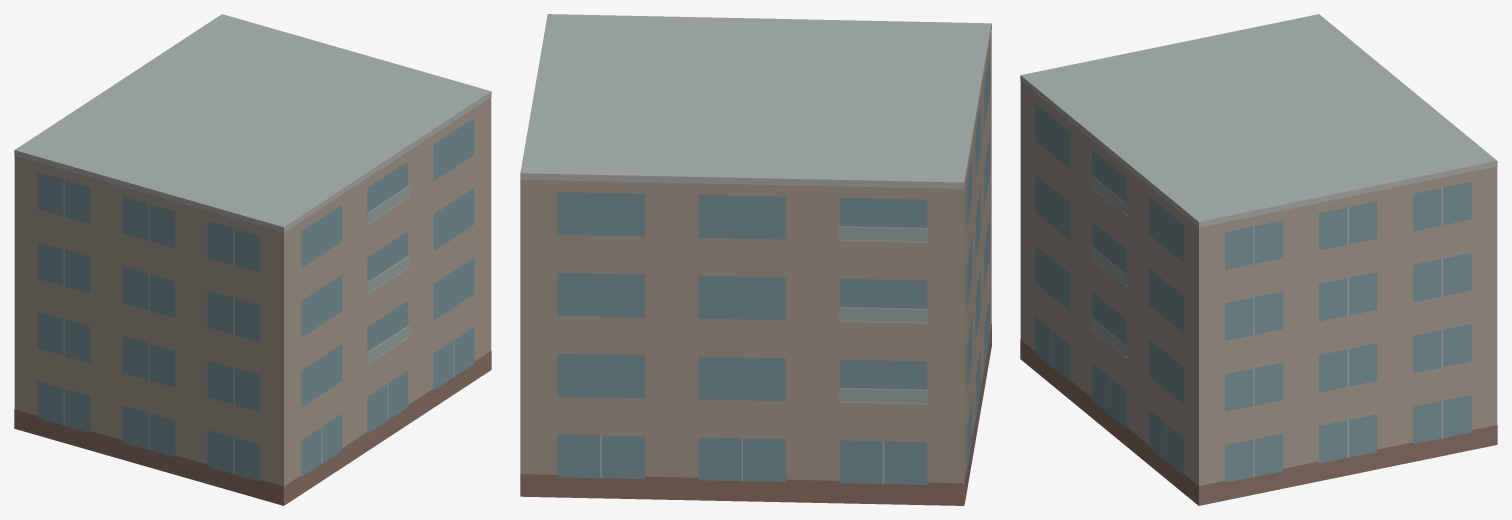
File: survey-upis-33022780.glb
3 views of the same model, side by side, from view 1: azimuth 30°, elevation 25°; view 2: azimuth 150°, elevation 25°; view 3: azimuth 270°, elevation 25° (orthographic). The views are drawn at different scales.
Parts seen in each view (by area): view 1: survey-upis-33022780.tmp; view 2: survey-upis-33022780.tmp; view 3: survey-upis-33022780.tmp.
Boxes of the visible parts, x1,y1,x2,y2 form: survey-upis-33022780.tmp: (14,14,491,505); survey-upis-33022780.tmp: (520,14,991,505); survey-upis-33022780.tmp: (1020,14,1497,505).
Size of the model in its own units: 19.16 by 12.2 by 18.58.
